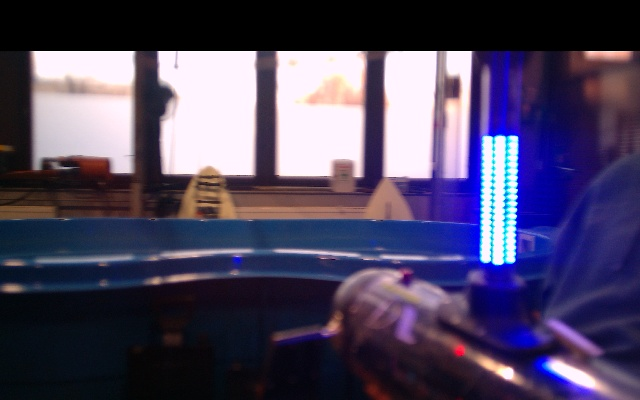blue: (480, 129, 519, 273)
